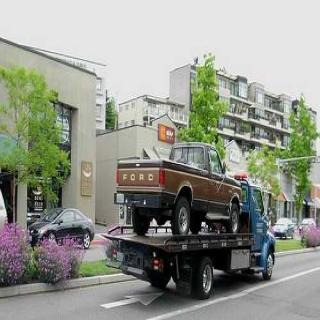Towing_truck: (100, 172, 276, 300)
